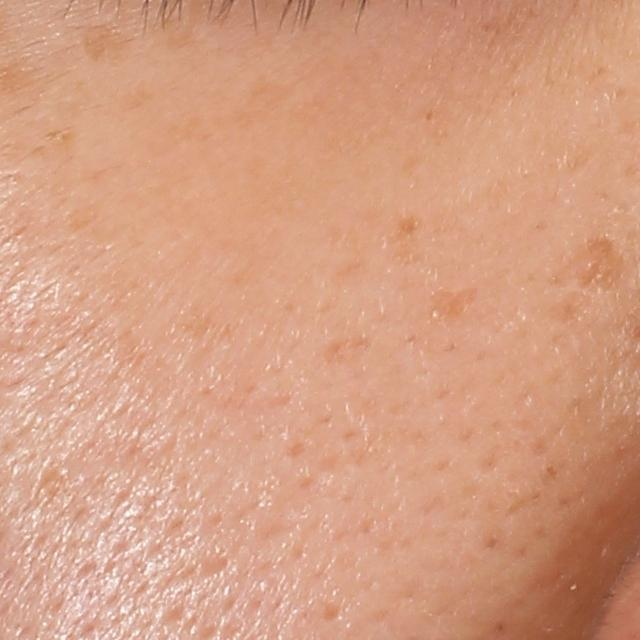melasma: (85, 26, 146, 66)
